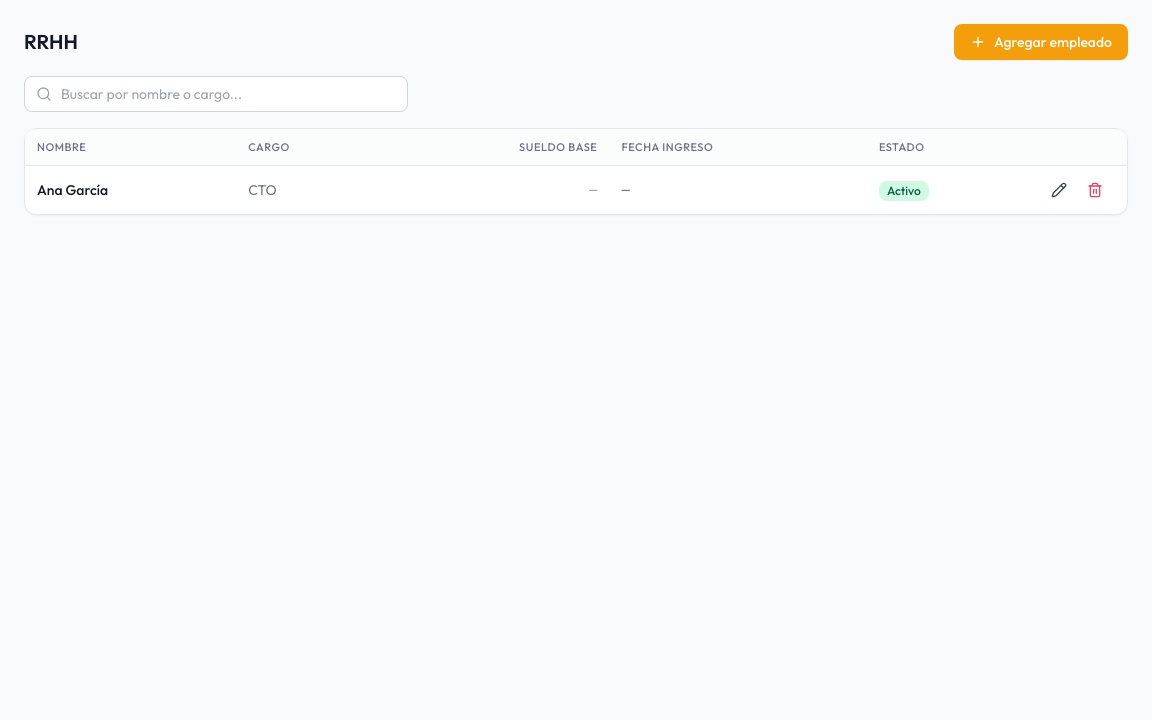
Test: RRHH › abre modal de detalle al hacer clic en un empleado
The image size is (1152, 720).
Click the text "Ana García". click: coordinates (73, 190)
box: [25,166,236,214]
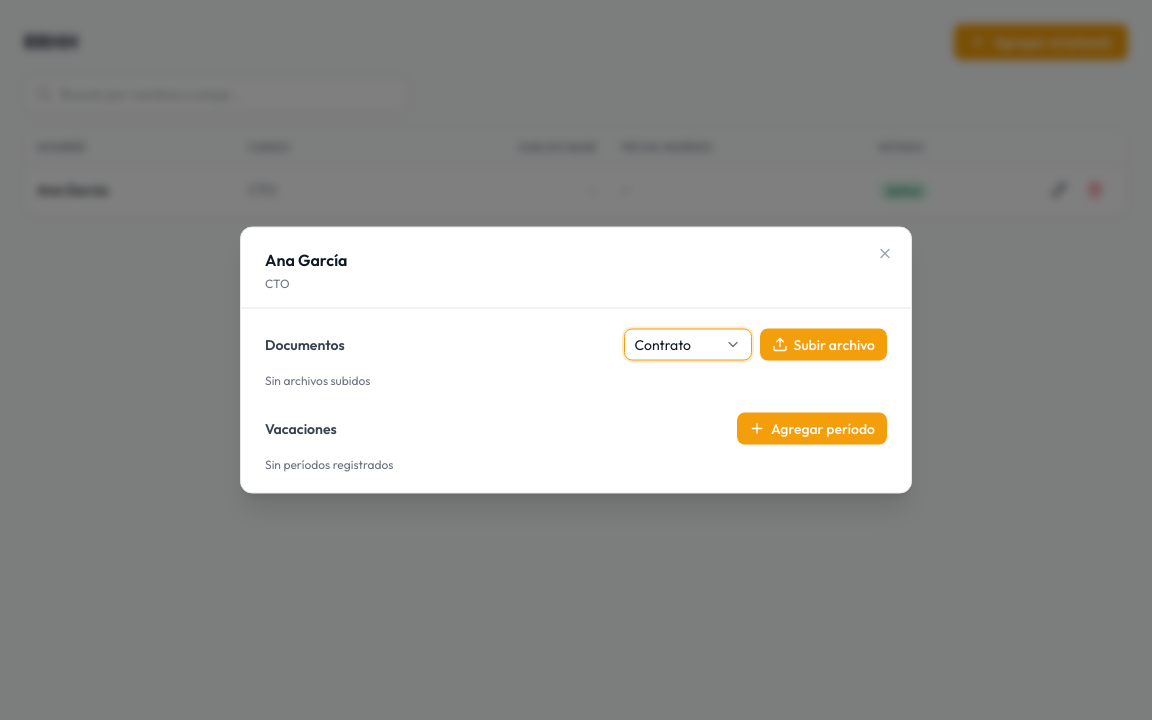
Expected: the heading "Documentos" is shown, [265,334,345,354]
